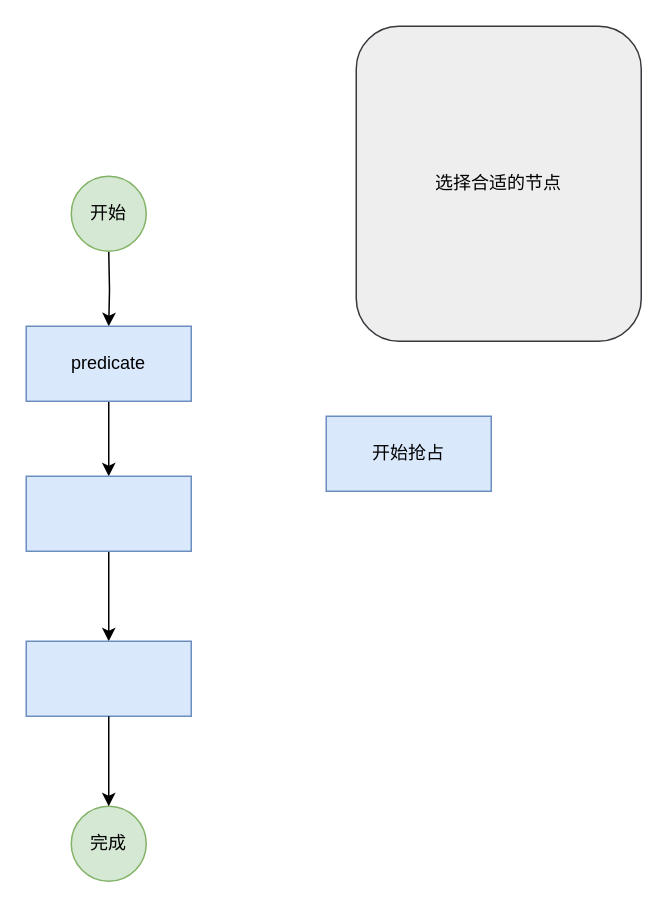
Image size: 668x908. Some labels were removed from this diagram. Each missing label, with the centre of its shape:
priority: point 108,513
绑定Node: point 108,678
